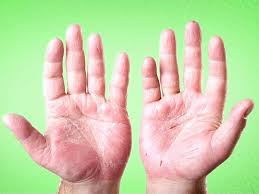palm: (145, 104, 223, 169), (57, 106, 130, 172)
